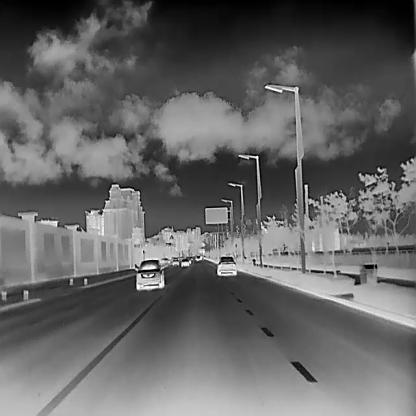car: (134, 260, 164, 289), (216, 255, 236, 275), (180, 257, 189, 266), (171, 256, 178, 264), (194, 254, 201, 260)
